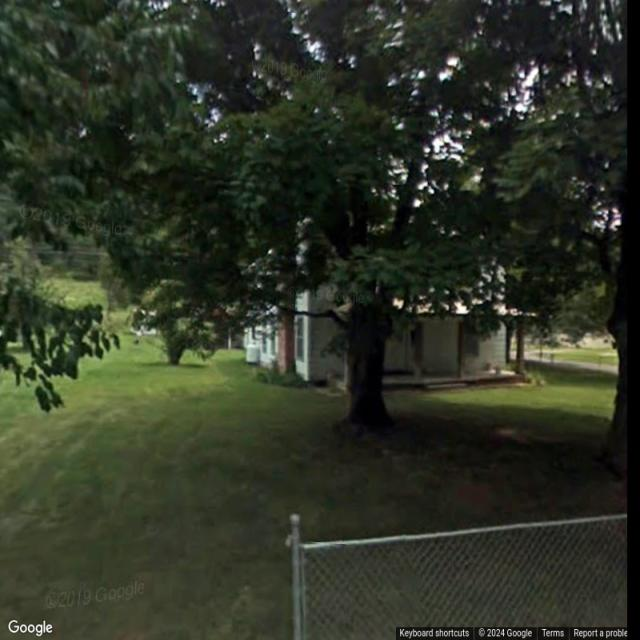House: (242, 243, 538, 387)
